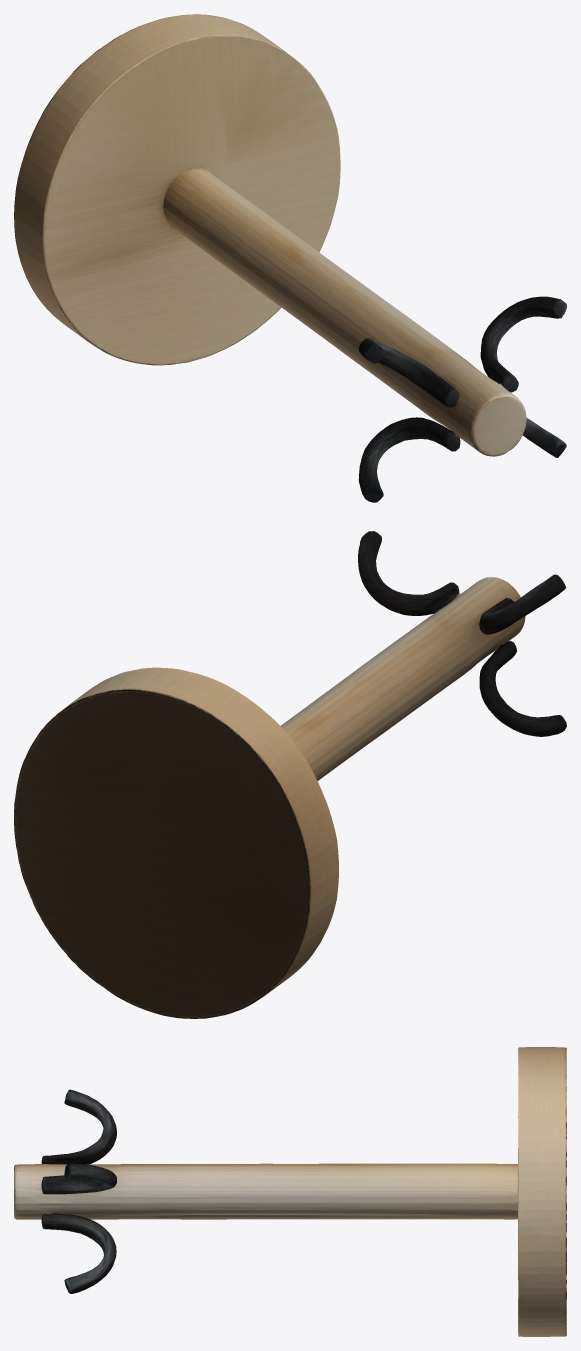
The model's file is hanger_hook_visual_0.obj.
3 renders of one model, top to bottom at view 1: azimuth 30°, elevation 25°; view 2: azimuth 150°, elevation 25°; view 3: azimuth 270°, elevation 25°, orthographic. The views are drawn at different scales.
Bounding box in the file's own units: 0.5095 × 0.5278 × 1.
1 material, 1 textured.
